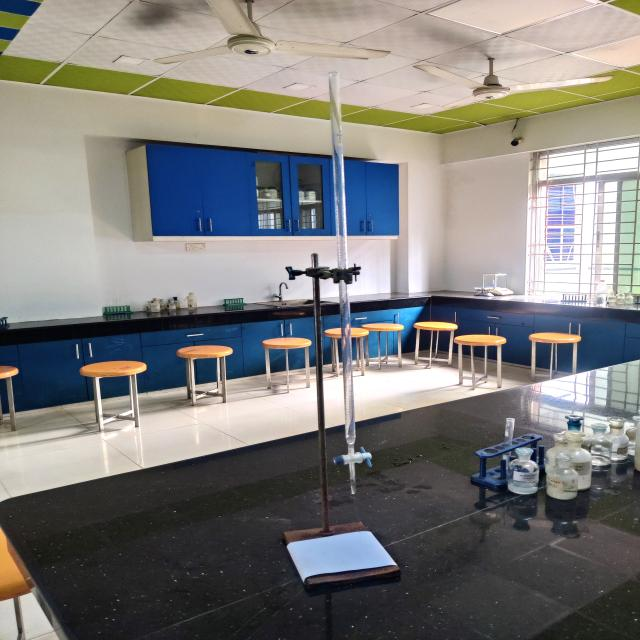Burette_Stands: (264, 244, 406, 610)
